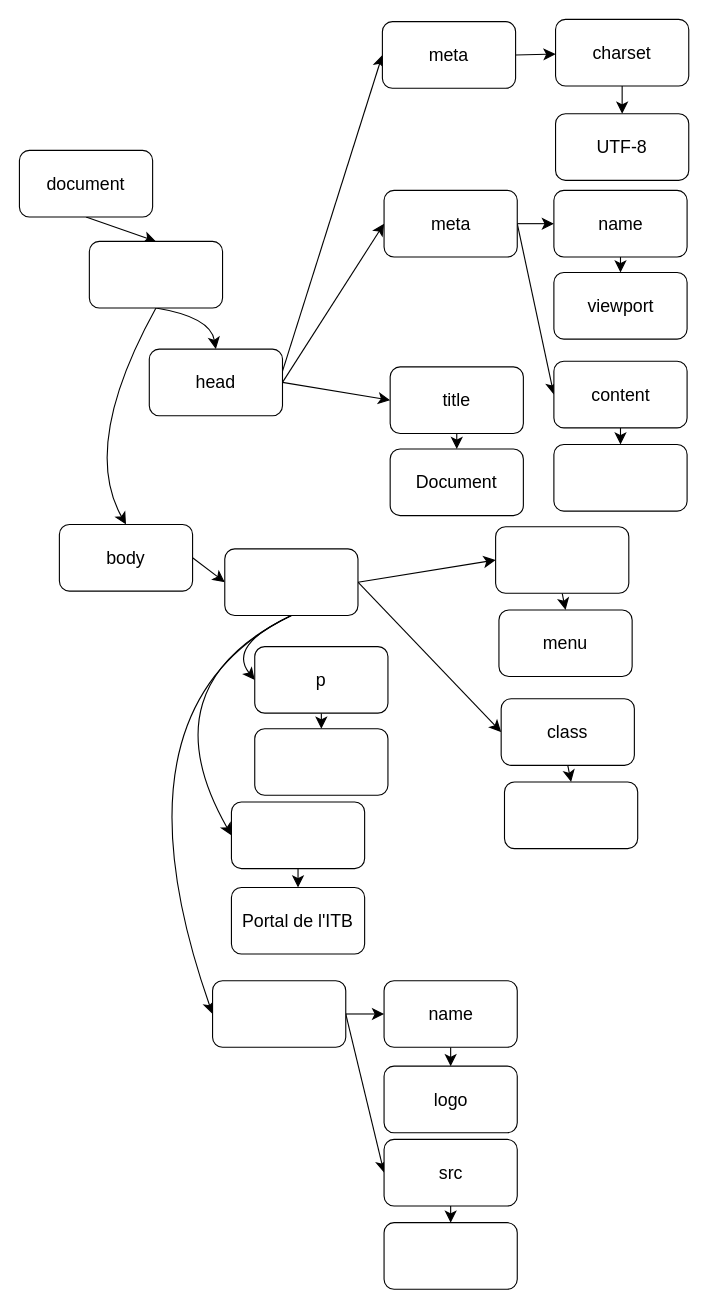
This 708x1309 diagram has some shape labels left out. The centre of each missing label's shape, as x and y in pixels:
Benvingudes: (x=321, y=761)
div: (x=291, y=581)
fons_verd: (x=570, y=815)
h1: (x=297, y=835)
html: (x=155, y=274)
id: (x=562, y=559)
img: (x=278, y=1013)
img/logoitb.png: (x=450, y=1255)
width=device-width, initial-scale=1.0: (x=620, y=477)
